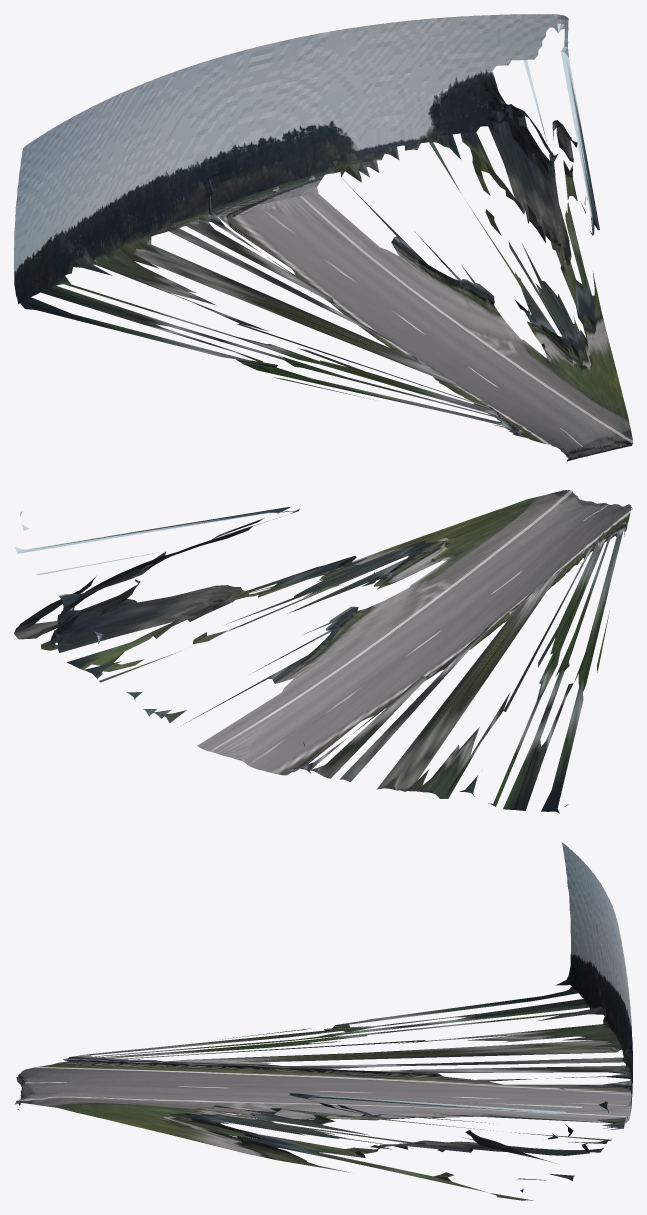
3 renders of one model, top to bottom at view 1: azimuth 30°, elevation 25°; view 2: azimuth 150°, elevation 25°; view 3: azimuth 270°, elevation 25°, orthographic. The views are drawn at different scales.
Parts seen in each view (by area): view 1: defaultobject; view 2: defaultobject; view 3: defaultobject.
Boxes of the visible parts, left/top/right/bottom form: defaultobject: left=14, top=14, right=632, bottom=461; defaultobject: left=14, top=490, right=632, bottom=813; defaultobject: left=14, top=842, right=632, bottom=1200.
Bounding box in the file's own units: 40.94 × 12.52 × 44.59.
Materials: 1 (1 with a texture image).
